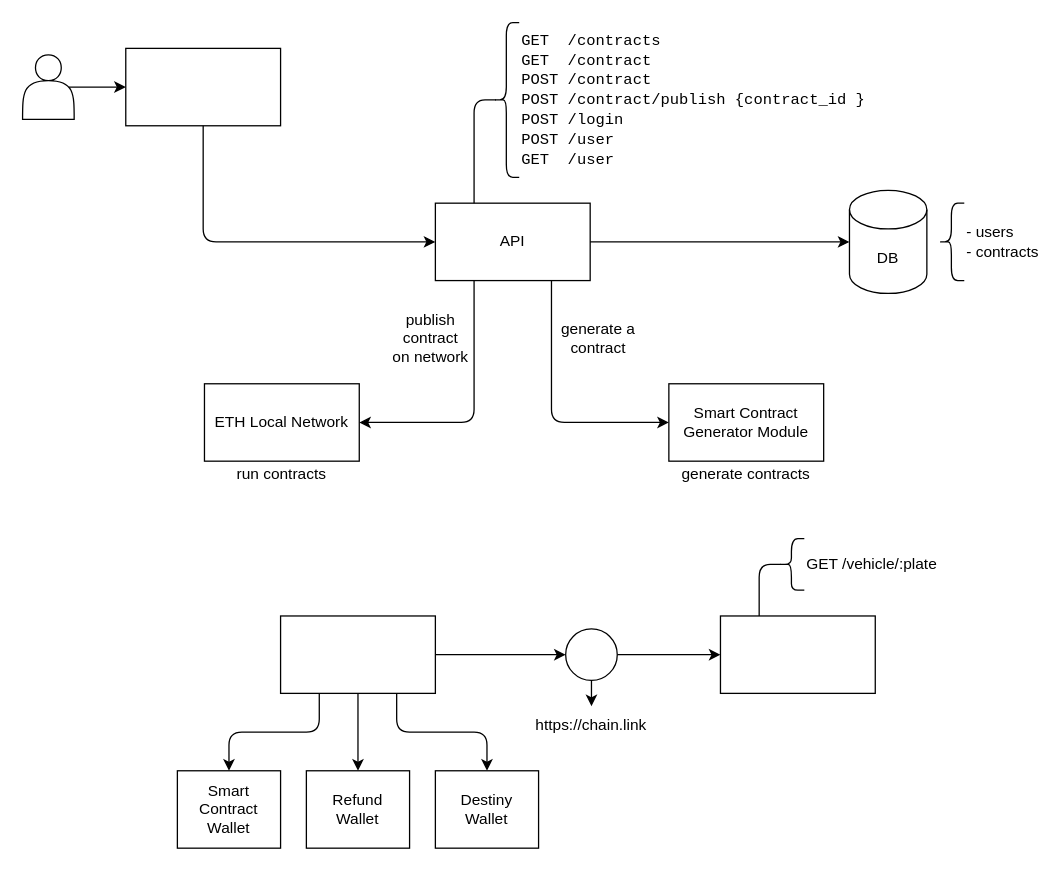
Image size: 1064x871. Some labels were removed from this diagram. Here are the shapes that lost their labels. From the top down, the centre of each, then its label:
(x=202, y=86): SCG Web App
(x=357, y=654): Smart Contract
(x=797, y=654): DENATRAN FAKE API
